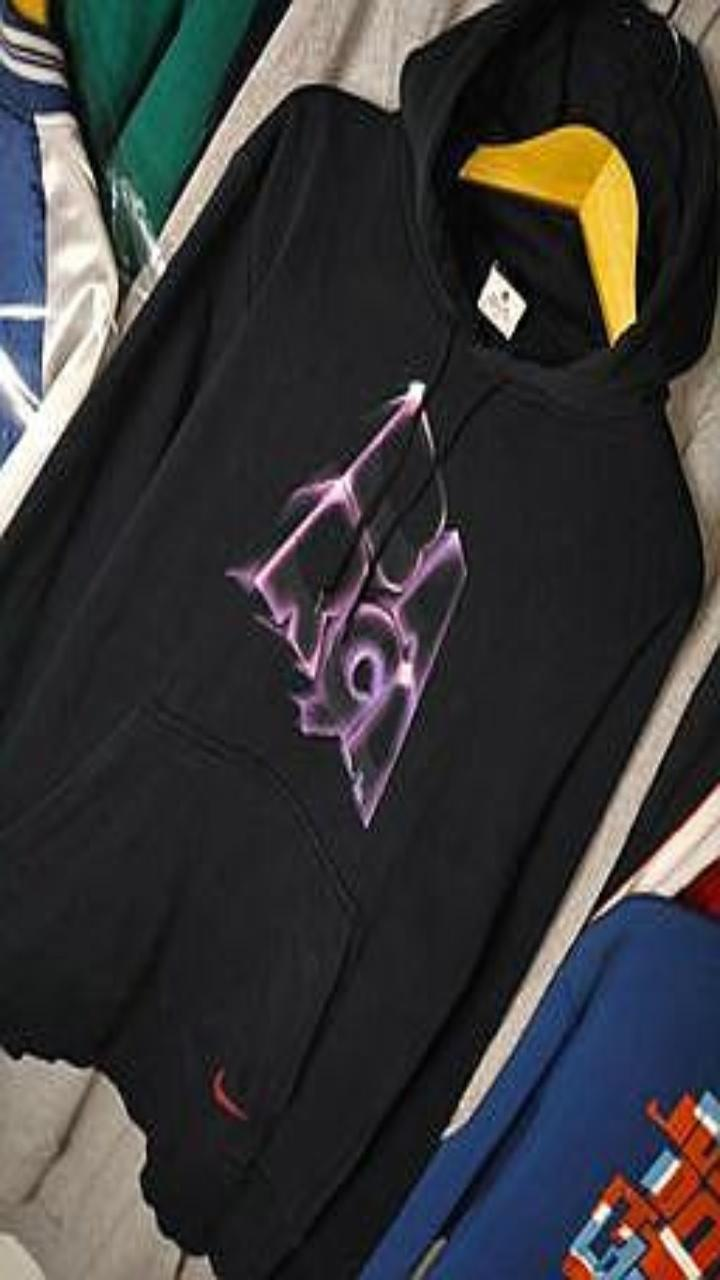Hoodie: (362, 896, 719, 1279)
